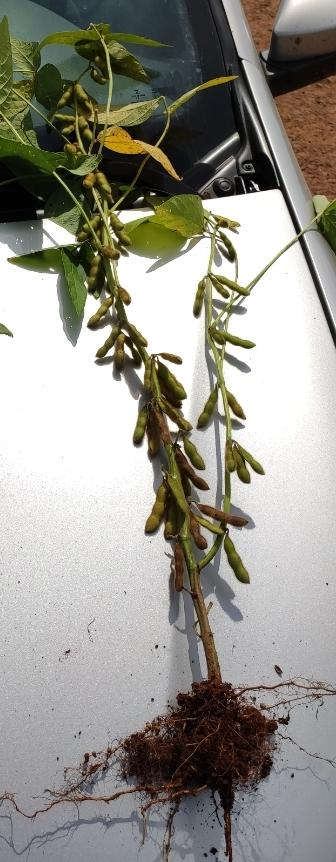soja: (225, 535, 261, 588), (175, 452, 214, 499), (140, 481, 169, 544), (196, 501, 254, 529), (235, 436, 272, 479), (219, 382, 255, 423), (215, 265, 252, 299), (195, 383, 222, 428), (224, 450, 255, 489), (216, 324, 260, 351), (180, 436, 210, 473), (80, 255, 104, 297), (143, 420, 165, 465), (170, 541, 188, 596), (83, 297, 112, 331), (91, 327, 116, 361), (215, 234, 243, 263), (101, 239, 127, 269), (191, 520, 212, 556), (160, 373, 185, 403), (191, 280, 209, 320), (151, 351, 188, 370), (124, 321, 149, 349), (133, 407, 149, 450), (176, 469, 199, 498), (94, 53, 115, 82), (111, 333, 125, 376), (170, 408, 193, 434), (209, 274, 230, 301), (217, 441, 235, 472), (107, 211, 130, 235), (98, 174, 123, 196), (77, 211, 102, 233), (111, 283, 134, 306), (84, 67, 109, 88), (133, 370, 153, 394), (74, 82, 92, 106), (202, 328, 225, 346), (49, 112, 78, 125), (77, 171, 94, 193), (83, 129, 100, 149), (60, 142, 77, 162), (57, 86, 71, 109), (77, 116, 100, 130), (132, 342, 143, 370), (113, 234, 138, 245), (59, 124, 76, 137), (71, 233, 89, 245)
